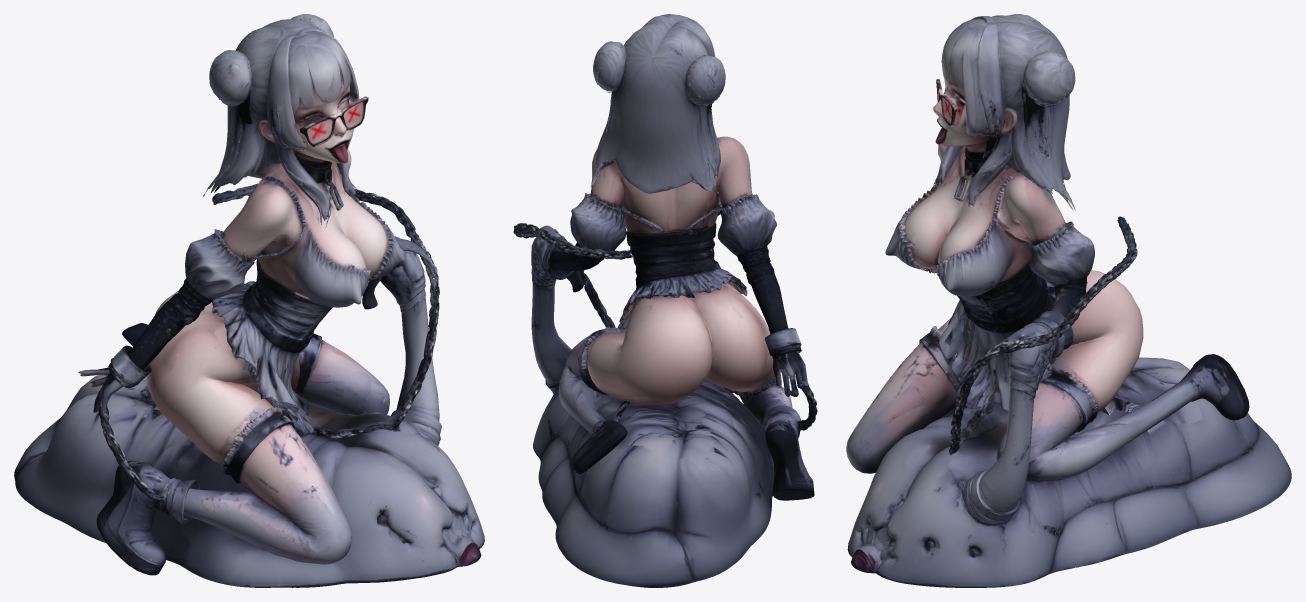
File: 01a1a2e1-e78e-7b7c-b2f1-bdcbe858e9c0.glb
The picture shows the model from 3 angles, left to right: view 1: azimuth 30°, elevation 25°; view 2: azimuth 150°, elevation 25°; view 3: azimuth 270°, elevation 25°; orthographic projection. The views are drawn at different scales.
Visible parts, largest first — view 1: node_0; view 2: node_0; view 3: node_0.
Part boxes in pixels (x1=…): node_0: x1=14, y1=14, x2=484, y2=587; node_0: x1=513, y1=14, x2=817, y2=587; node_0: x1=846, y1=14, x2=1291, y2=587.
Bounding box in the file's own units: 0.5987 × 0.8858 × 0.7167.
Materials: 1 (1 with a texture image).
